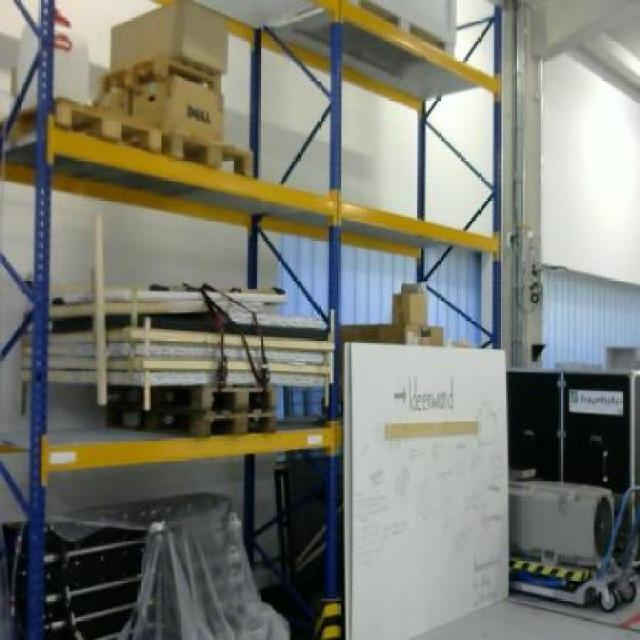box: (110, 1, 228, 70), (130, 76, 222, 147), (389, 292, 426, 326)
